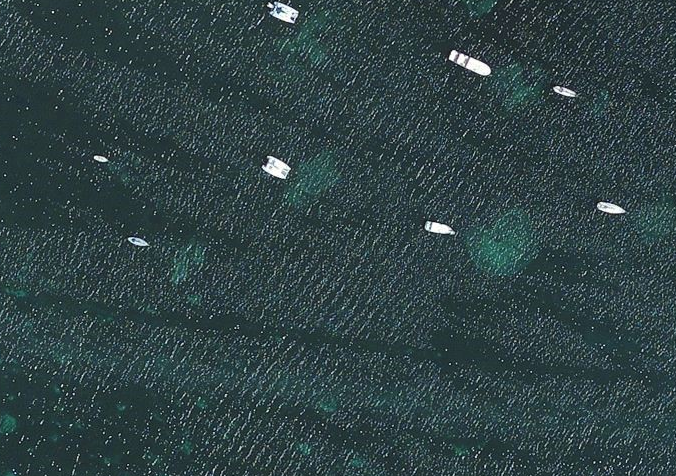ship: (444, 46, 495, 79), (254, 153, 295, 181), (264, 2, 302, 26), (594, 196, 628, 218), (422, 219, 458, 239), (124, 233, 152, 250), (550, 82, 579, 98), (93, 154, 109, 163)
